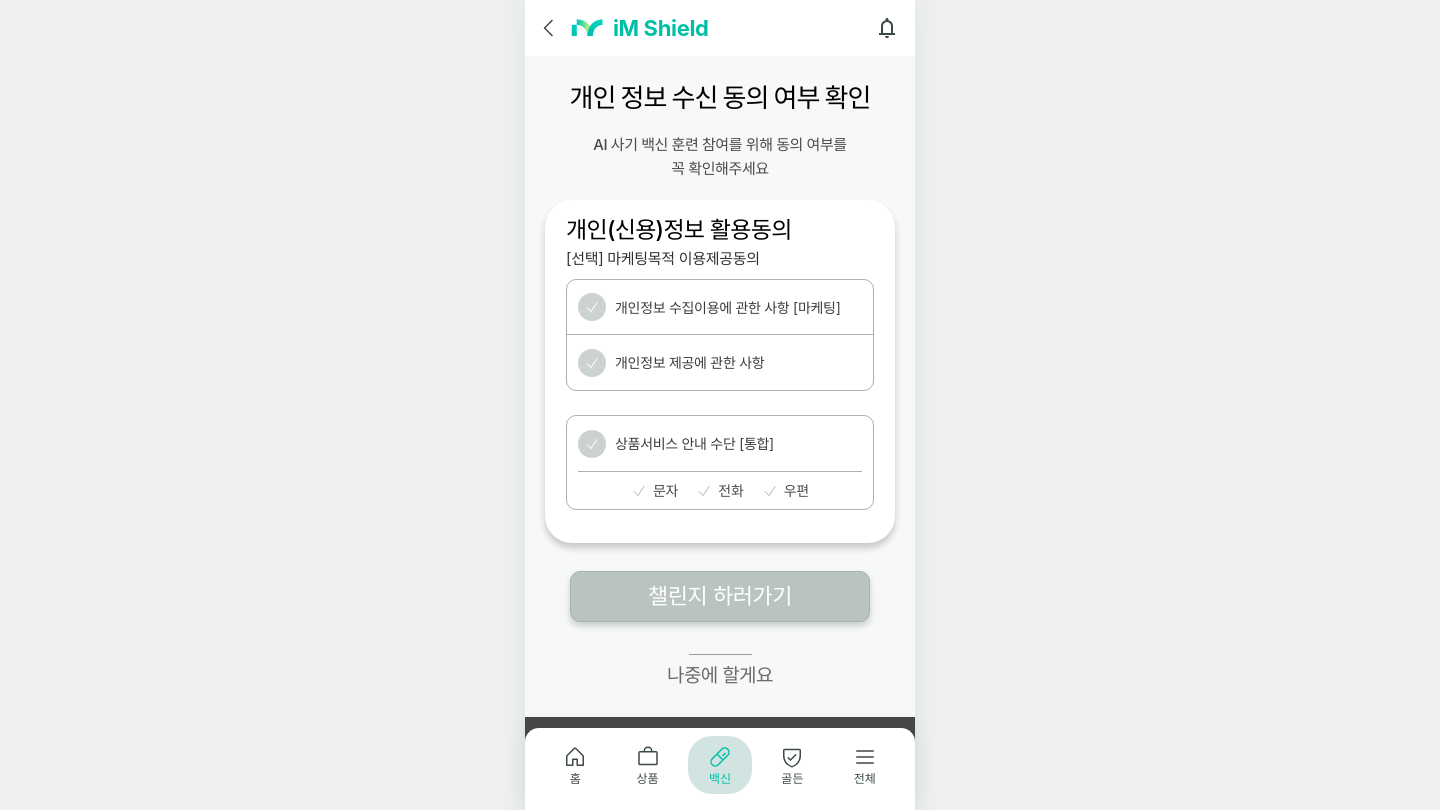
it: challenge onboarding routes › opens consent terms from the label and checks after agreeing
Click the button "개인정보 수집이용에 관한 사항 [마케팅]": {"x": 738, "y": 307} [615,290,862,324]
(page scrolled)
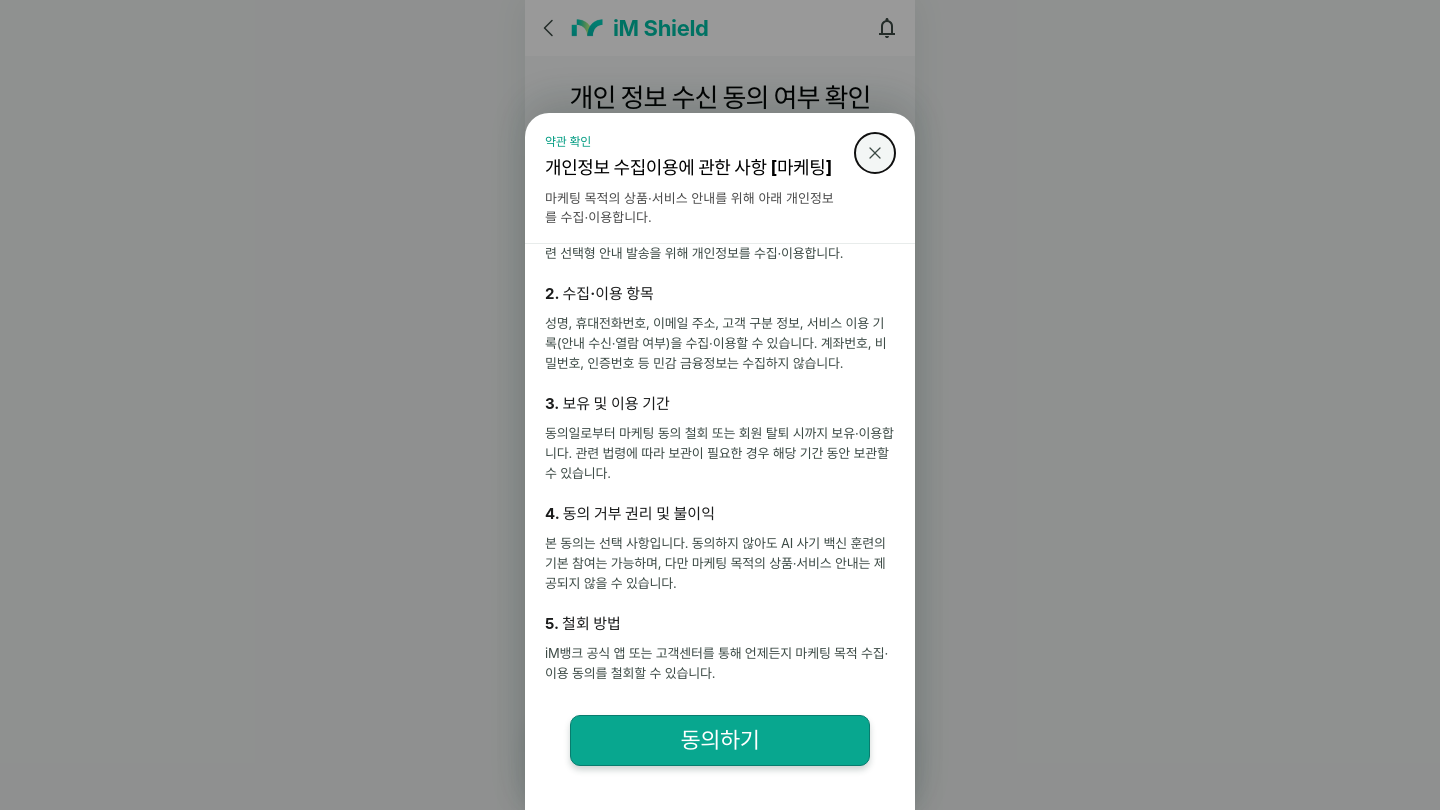
Expected: the dialog "개인정보 수집이용에 관한 사항 [마케팅]" is shown, [525,113,915,809]
Click the button "동의하기": {"x": 720, "y": 741} [570,715,870,766]
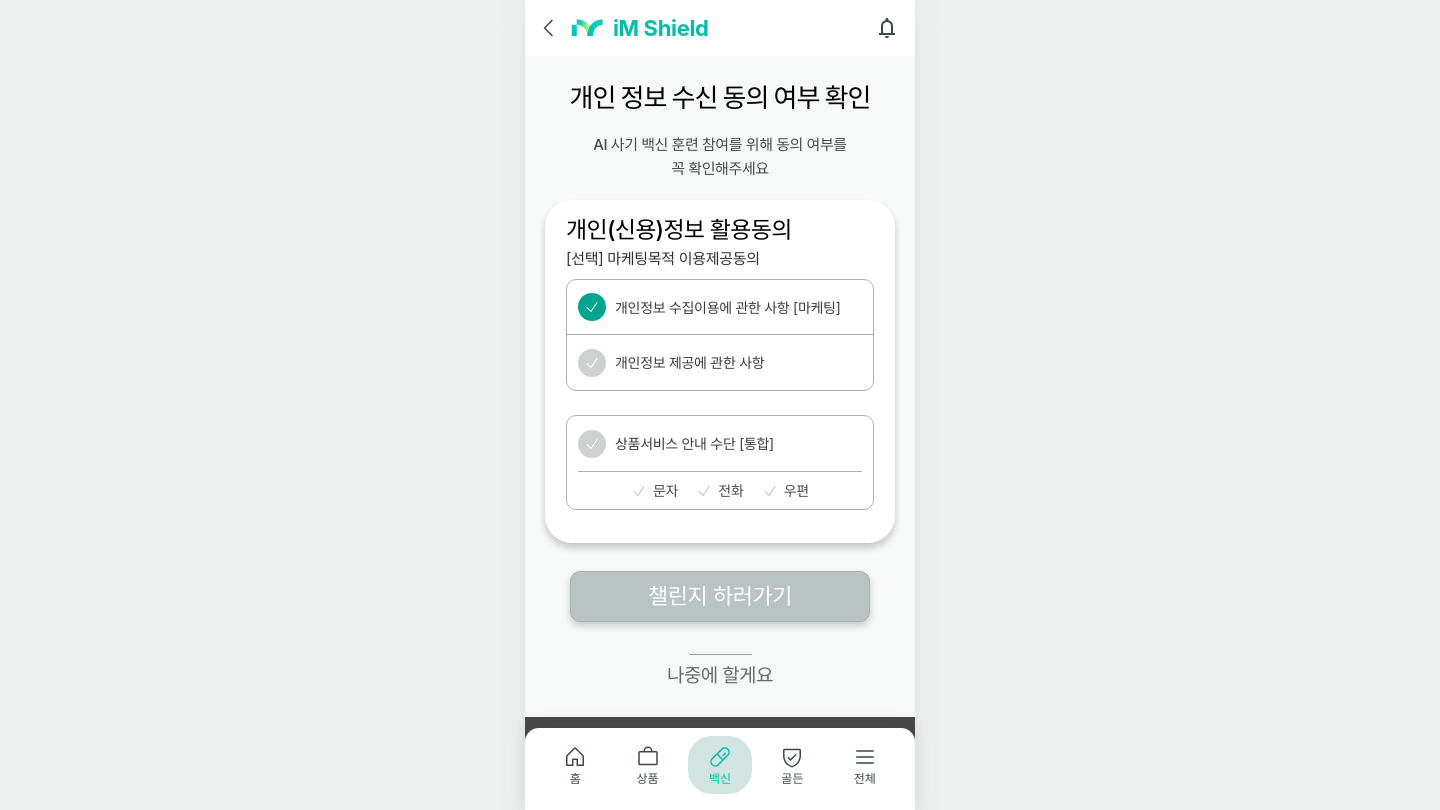
Expected: the checkbox named "개인정보 수집이용에 관한 사항 [마케팅]" is checked, [578,293,606,321]
Expected: the dialog is gone
